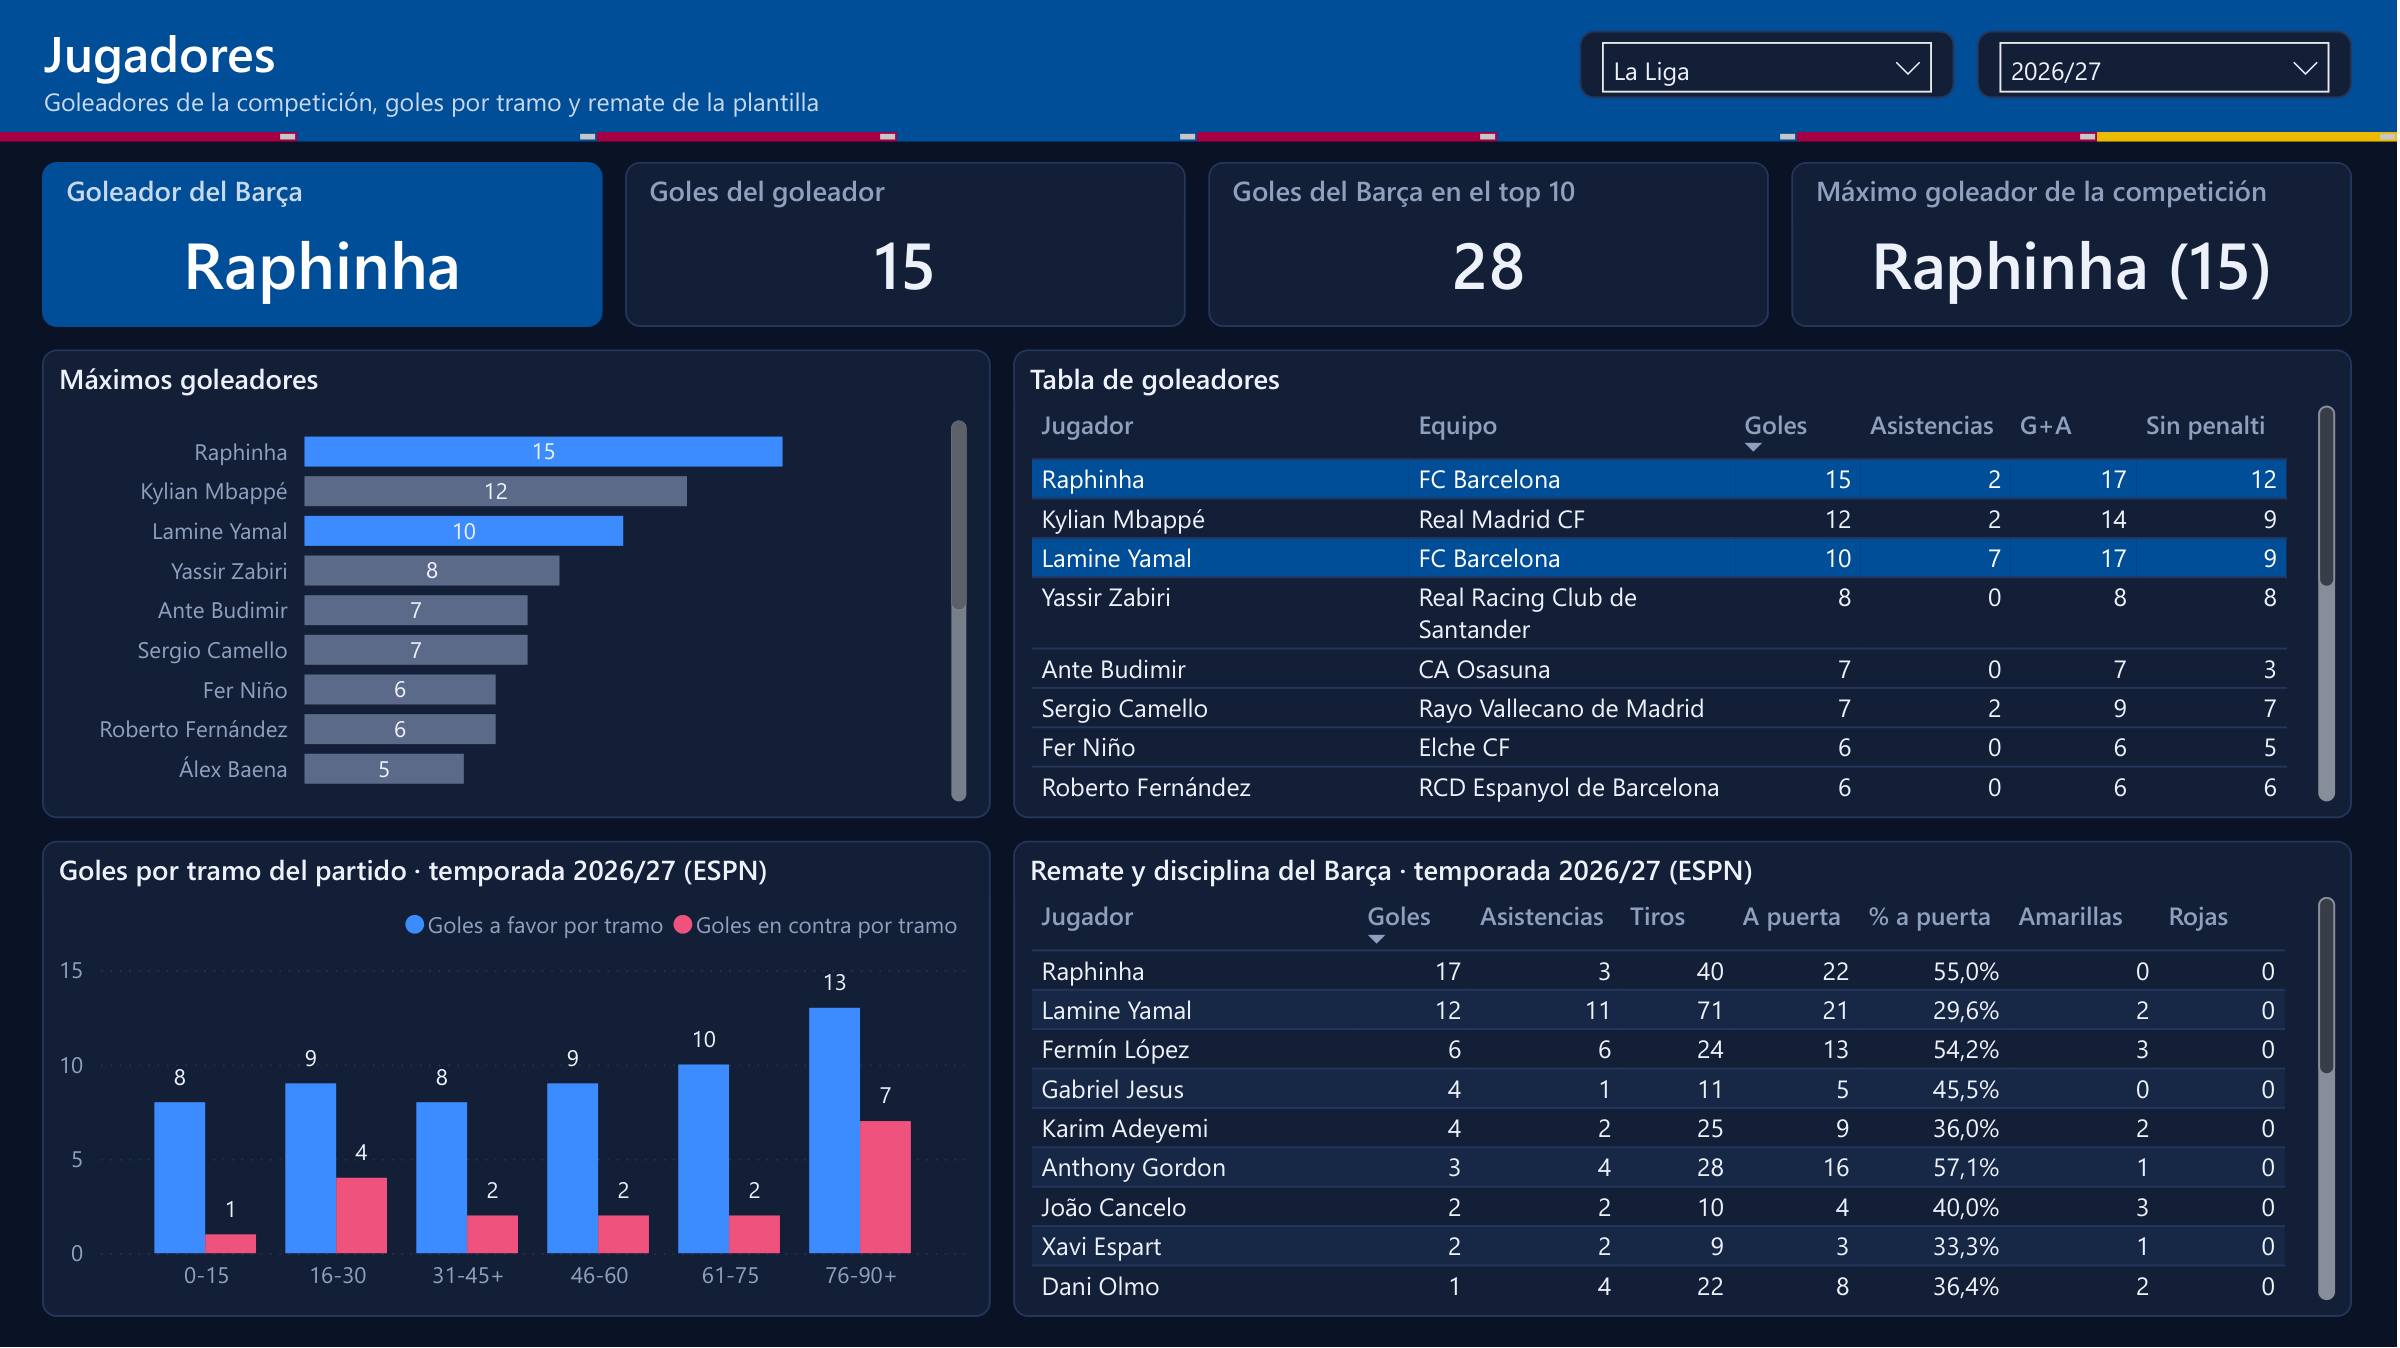

Layout of this report page (visuals, bound fields, positions):
{"tool":"powerbi","page":{"name":"Jugadores","canvas":[1280,720],"ordinal":2},"visuals":[{"type":"textbox","box":[0,0,1280,72],"z":0},{"type":"textbox","box":[0,72,160,5],"z":10},{"type":"textbox","box":[160,72,160,5],"z":20},{"type":"textbox","box":[320,72,160,5],"z":30},{"type":"textbox","box":[480,72,160,5],"z":40},{"type":"textbox","box":[640,72,160,5],"z":50},{"type":"textbox","box":[800,72,160,5],"z":60},{"type":"textbox","box":[960,72,160,5],"z":70},{"type":"textbox","box":[1120,72,160,5],"z":80},{"type":"slicer","fields":{"Values":["warehouse vw_dim_competition.Competición"]},"box":[844,18,200,36],"z":90},{"type":"slicer","fields":{"Values":["warehouse vw_dim_competition.Temporada"]},"box":[1056,18,200,36],"z":100},{"type":"card","title":"Goleador del Barça","fields":{"Values":["Medidas.Goleador del Barça"]},"box":[24,88,299,88],"z":110},{"type":"card","title":"Goles del goleador","fields":{"Values":["Medidas.Goles del goleador"]},"box":[335,88,299,88],"z":120},{"type":"card","title":"Goles del Barça en el top 10","fields":{"Values":["Medidas.Goles del Barça en el top 10"]},"box":[646,88,299,88],"z":130},{"type":"card","title":"Máximo goleador de la competición","fields":{"Values":["Medidas.Máximo goleador"]},"box":[957,88,299,88],"z":140},{"type":"barChart","title":"Máximos goleadores","fields":{"Category":["warehouse vw_top_scorers.Jugador"],"Y":["Medidas.Goles (Barça)","Medidas.Goles (resto)"]},"box":[24,188,506,250],"z":150},{"type":"tableEx","title":"Tabla de goleadores","fields":{"Values":["warehouse vw_top_scorers.Jugador","warehouse vw_top_scorers.Equipo","warehouse vw_top_scorers.Goles","warehouse vw_top_scorers.Asistencias","warehouse vw_top_scorers.G+A","warehouse vw_top_scorers.Sin penalti"]},"box":[542,188,714,250],"z":160},{"type":"clusteredColumnChart","title":"Goles por tramo del partido · temporada 2026/27 (ESPN)","fields":{"Category":["warehouse vw_barca_goals_by_interval.Tramo"],"Y":["Medidas.Goles a favor por tramo","Medidas.Goles en contra por tramo"]},"box":[24,450,506,254],"z":170},{"type":"tableEx","title":"Remate y disciplina del Barça · temporada 2026/27 (ESPN)","fields":{"Values":["warehouse vw_barca_player_events.Jugador","warehouse vw_barca_player_events.Goles","warehouse vw_barca_player_events.Asistencias","warehouse vw_barca_player_events.Tiros","warehouse vw_barca_player_events.A puerta","warehouse vw_barca_player_events.% a puerta","warehouse vw_barca_player_events.Amarillas","warehouse vw_barca_player_events.Rojas"]},"box":[542,450,714,254],"z":180}]}

Visuals, with their boxes in screenshot pixels (x1, y1, x2, y2), scaled from the page's 1280x720 canvas onto the 2400x1348 screenshot:
textbox: [0, 0, 2399, 135]
textbox: [0, 135, 300, 144]
textbox: [300, 135, 600, 144]
textbox: [600, 135, 900, 144]
textbox: [900, 135, 1200, 144]
textbox: [1200, 135, 1500, 144]
textbox: [1500, 135, 1800, 144]
textbox: [1800, 135, 2100, 144]
textbox: [2100, 135, 2399, 144]
slicer - warehouse vw_dim_competition.Competición: [1582, 34, 1958, 101]
slicer - warehouse vw_dim_competition.Temporada: [1980, 34, 2355, 101]
"Goleador del Barça" card: [45, 165, 606, 330]
"Goles del goleador" card: [628, 165, 1189, 330]
"Goles del Barça en el top 10" card: [1211, 165, 1772, 330]
"Máximo goleador de la competición" card: [1794, 165, 2355, 330]
"Máximos goleadores" barChart: [45, 352, 994, 820]
"Tabla de goleadores" tableEx: [1016, 352, 2355, 820]
"Goles por tramo del partido · temporada 2026/27 (ESPN)" clusteredColumnChart: [45, 842, 994, 1318]
"Remate y disciplina del Barça · temporada 2026/27 (ESPN)" tableEx: [1016, 842, 2355, 1318]
